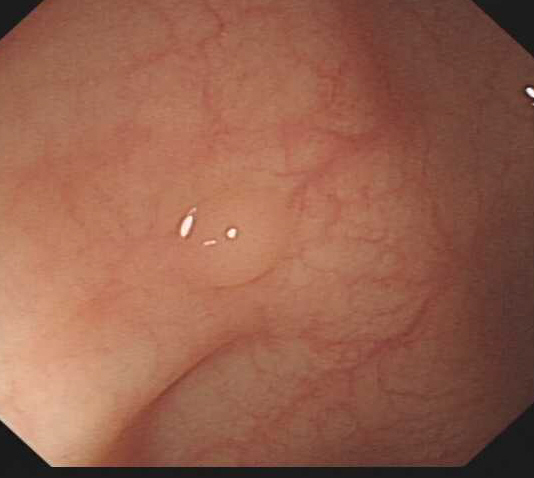others: (170, 189, 299, 290)
